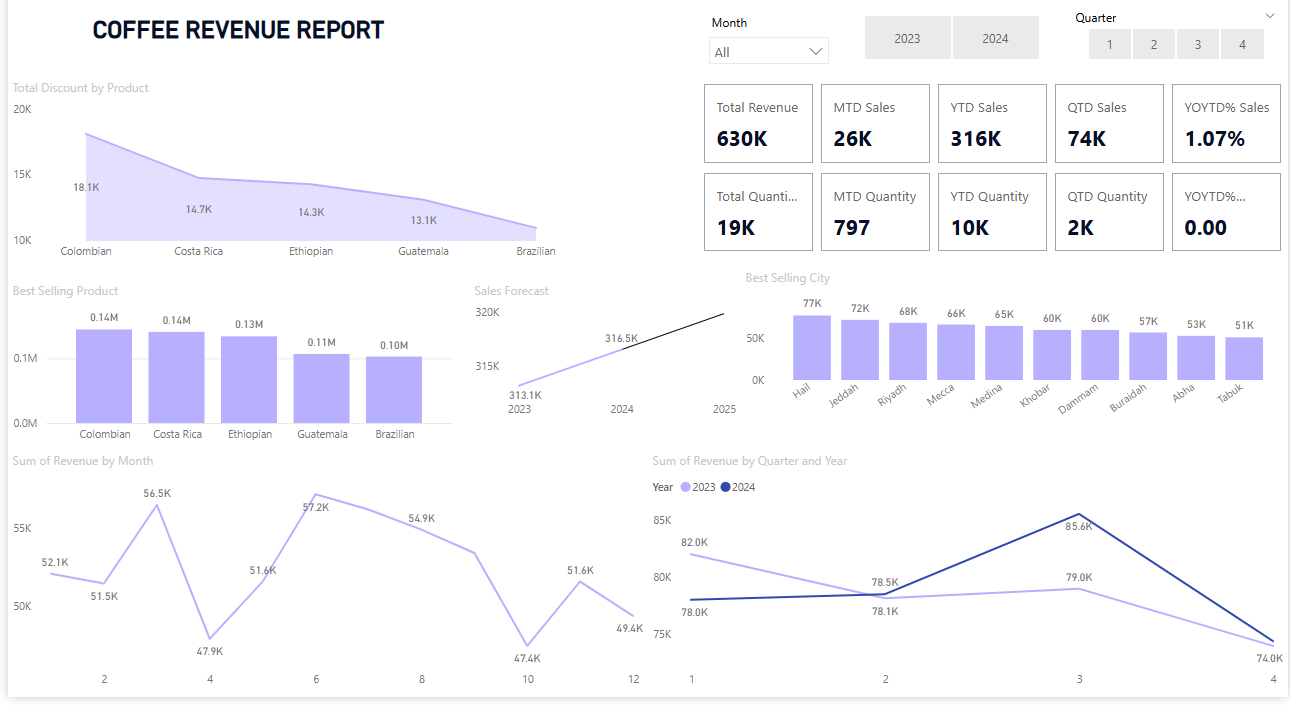

Layout of this report page (visuals, bound fields, positions):
{"tool":"powerbi","page":{"name":"Page 1","canvas":[1280,720],"ordinal":0},"visuals":[{"type":"cardVisual","fields":{"Data":["Sum(Sales.Revenue)","Metrics.MTD Sales","Metrics.YTD Sales","Metrics.QTD Sales","Metrics.YOYTD%"]},"box":[690.6,102.1,589.4,88.5],"z":0},{"type":"cardVisual","fields":{"Data":["Sum(Sales.Quantity)","Metrics.MTD Quantity","Metrics.YTD Quantity","Metrics.QTD Quantity","Metrics.YOYTD% Quantity Sold"]},"box":[690.6,190.6,589.4,88.5],"z":1},{"type":"lineChart","fields":{"Y":["Sum(Sales.Revenue)"],"Category":["DateTable.Month"]},"box":[0,474.7,640,245.1],"z":2},{"type":"slicer","fields":{"Values":["DateTable.Year"]},"box":[830.6,32.1,224.7,57.4],"z":3},{"type":"lineChart","fields":{"Y":["Sum(Sales.Revenue)"],"Category":["DateTable.Quarter"],"Series":["DateTable.Year"]},"box":[640,474.7,640,245.1],"z":4},{"type":"columnChart","title":"Best Selling Product","fields":{"Category":["Sales.Product"],"Y":["Sum(Sales.Revenue)"]},"box":[0,305.4,450.3,169.2],"z":5},{"type":"columnChart","title":"Best Selling City","fields":{"Y":["Sum(Sales.Revenue)"],"Category":["Sales.City"]},"box":[733.4,291.8,546.6,158.5],"z":6},{"type":"slicer","fields":{"Values":["DateTable.Month"]},"box":[690.6,32.1,140.1,57.4],"z":7},{"type":"slicer","fields":{"Values":["DateTable.Quarter"]},"box":[1055.3,27.2,224.7,62.2],"z":8},{"type":"stackedAreaChart","title":"Total Discount by Product","fields":{"Category":["Sales.Product"],"Y":["Sum(Sales.Discount_Amount)"]},"box":[0,102.1,577.8,189.7],"z":9},{"type":"textbox","box":[0,34,462,54.5],"z":10},{"type":"lineChart","title":"Sales Forecast","fields":{"Category":["DateTable.Year"],"Y":["Sum(Sales.Revenue)"]},"box":[462,305.4,271.4,144.9],"z":11}]}

Visuals, with their boxes in screenshot pixels (x1, y1, x2, y2), scaled from the page's 1280x720 canvas onto the 1290x705 screenshot:
cardVisual - Sum(Sales.Revenue) x Metrics.MTD Sales: (x1=696, y1=100, x2=1289, y2=187)
cardVisual - Sum(Sales.Quantity) x Metrics.MTD Quantity: (x1=696, y1=187, x2=1289, y2=273)
lineChart - Sum(Sales.Revenue) x DateTable.Month: (x1=0, y1=465, x2=645, y2=704)
slicer - DateTable.Year: (x1=837, y1=31, x2=1064, y2=88)
lineChart - Sum(Sales.Revenue) x DateTable.Quarter: (x1=645, y1=465, x2=1289, y2=704)
"Best Selling Product" columnChart: (x1=0, y1=299, x2=454, y2=465)
"Best Selling City" columnChart: (x1=739, y1=286, x2=1289, y2=441)
slicer - DateTable.Month: (x1=696, y1=31, x2=837, y2=88)
slicer - DateTable.Quarter: (x1=1064, y1=27, x2=1289, y2=88)
"Total Discount by Product" stackedAreaChart: (x1=0, y1=100, x2=582, y2=286)
textbox: (x1=0, y1=33, x2=466, y2=87)
"Sales Forecast" lineChart: (x1=466, y1=299, x2=739, y2=441)
